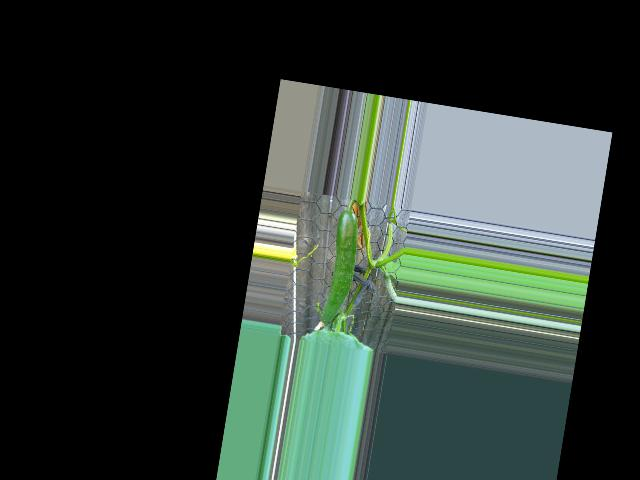cucumber: (320, 208, 364, 325)
